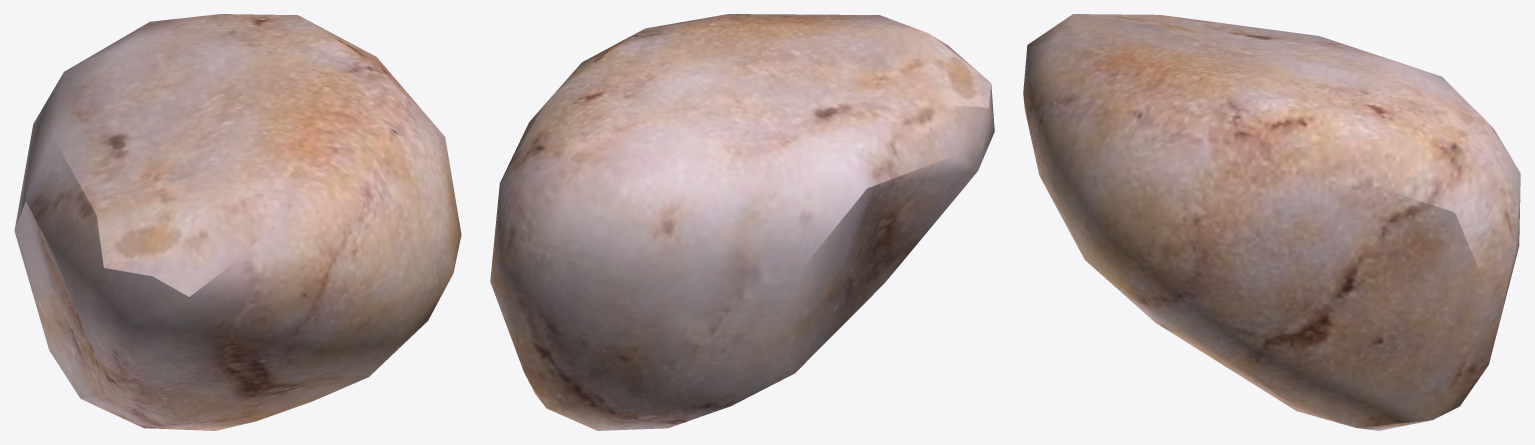
The model's file is rock061.glb.
The picture shows the model from 3 angles, left to right: view 1: azimuth 30°, elevation 25°; view 2: azimuth 150°, elevation 25°; view 3: azimuth 270°, elevation 25°; orthographic projection. The views are drawn at different scales.
Parts seen in each view (by area): view 1: rock061; view 2: rock061; view 3: rock061.
Part boxes in pixels (x1,y1,x2,y2): rock061: (14, 14, 461, 430); rock061: (490, 14, 994, 430); rock061: (1023, 14, 1520, 430).
Size of the model in its own units: 0.8168 by 0.7549 by 0.9794.
Materials: 1 (1 with a texture image).
